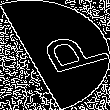P_W: (12, 28, 98, 82)
